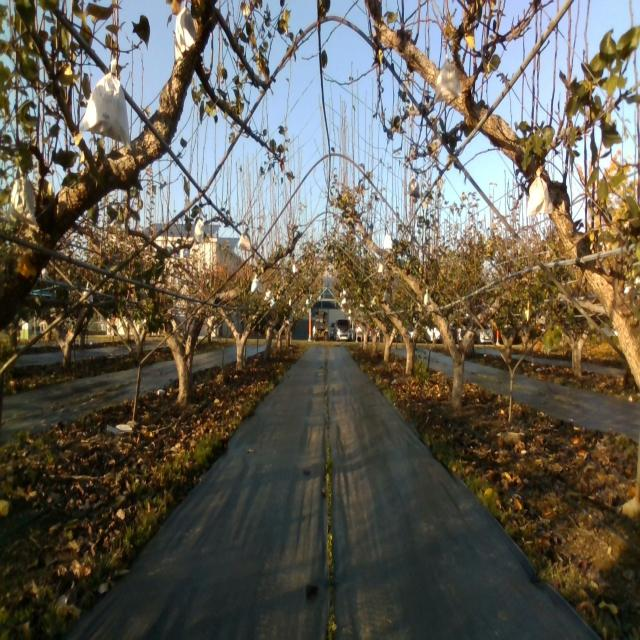pearbags: (79, 53, 131, 151), (5, 175, 37, 226), (433, 55, 463, 104), (174, 0, 198, 60), (527, 166, 552, 215), (194, 218, 205, 245), (238, 232, 252, 251), (408, 175, 420, 197)
